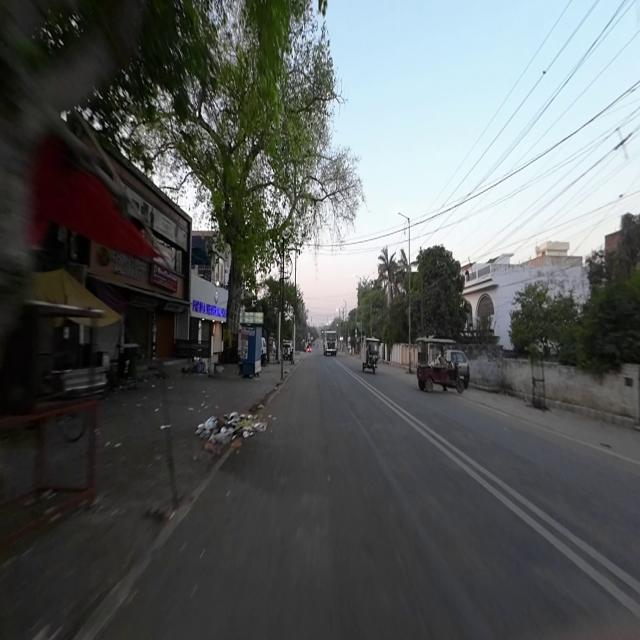Garbage: (194, 411, 267, 451)
